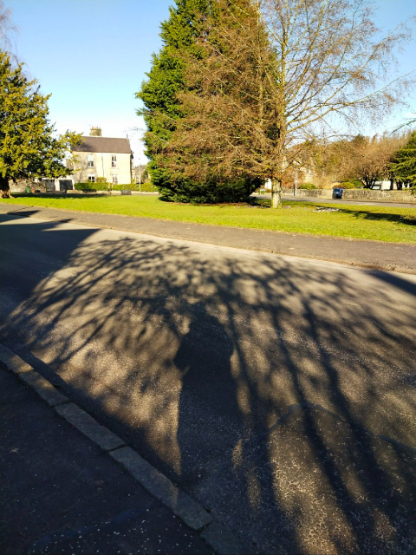tree: (188, 6, 399, 208), (133, 4, 276, 203), (0, 50, 69, 204)
